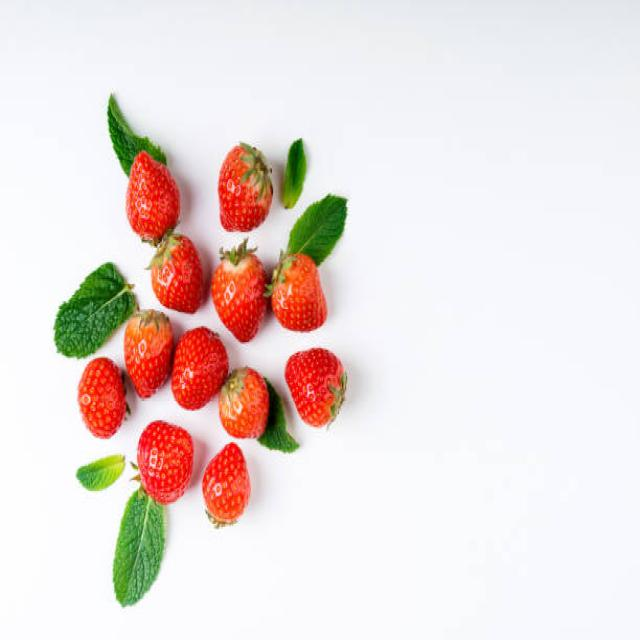Healthy Fruit: (212, 254, 266, 344), (171, 326, 228, 411), (136, 418, 193, 501), (126, 153, 179, 240), (217, 145, 271, 230), (272, 251, 327, 333), (286, 347, 342, 427), (151, 233, 205, 314), (124, 313, 174, 400), (77, 356, 126, 437), (202, 443, 252, 520), (220, 367, 269, 441)
